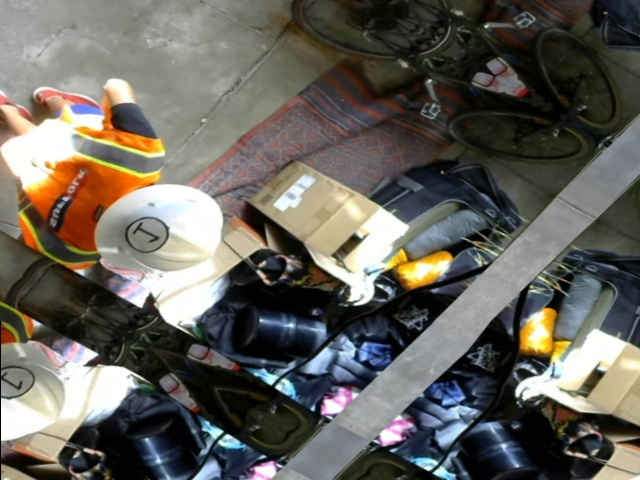one: (115, 212, 176, 257)
